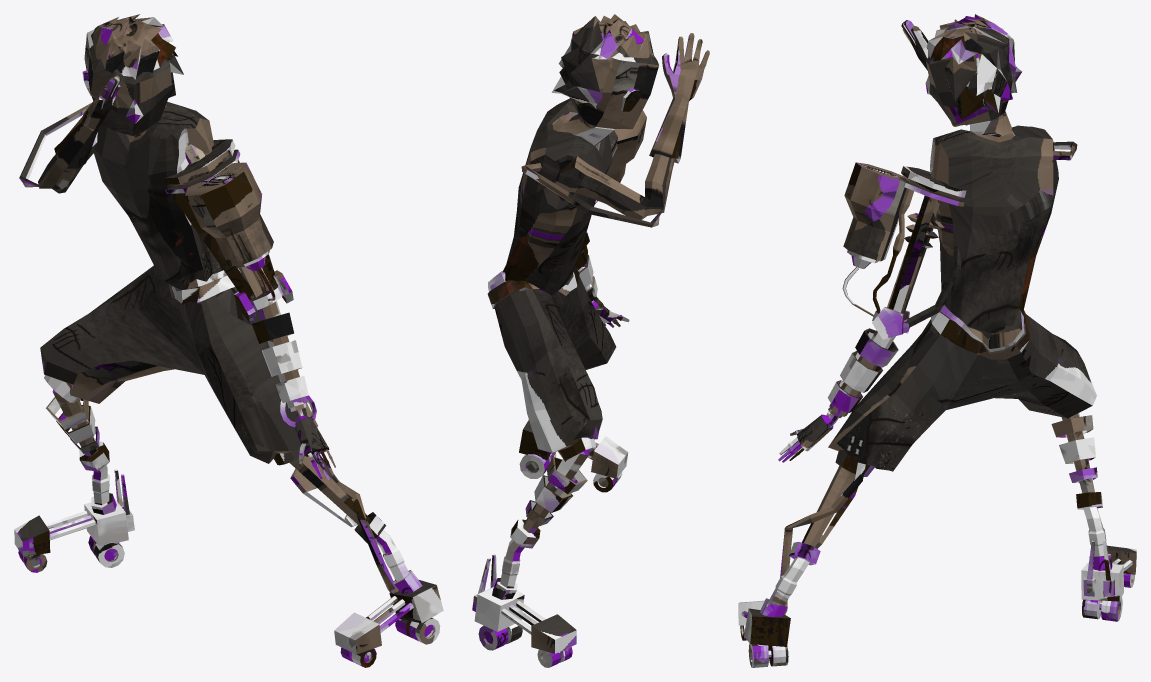
The model's file is CyborgFINALAnimation_000006.obj.
3 views of the same model, side by side, from view 1: azimuth 30°, elevation 25°; view 2: azimuth 150°, elevation 25°; view 3: azimuth 270°, elevation 25° (orthographic). The views are drawn at different scales.
Parts seen in each view (by area): view 1: CyborgMesh_Cube.002; view 2: CyborgMesh_Cube.002; view 3: CyborgMesh_Cube.002.
Boxes of the visible parts, x1,y1,x2,y2 form: CyborgMesh_Cube.002: [14, 14, 443, 667]; CyborgMesh_Cube.002: [472, 14, 709, 667]; CyborgMesh_Cube.002: [738, 14, 1136, 667].
Bounding box in the file's own units: 4.13 × 8.68 × 5.43.
